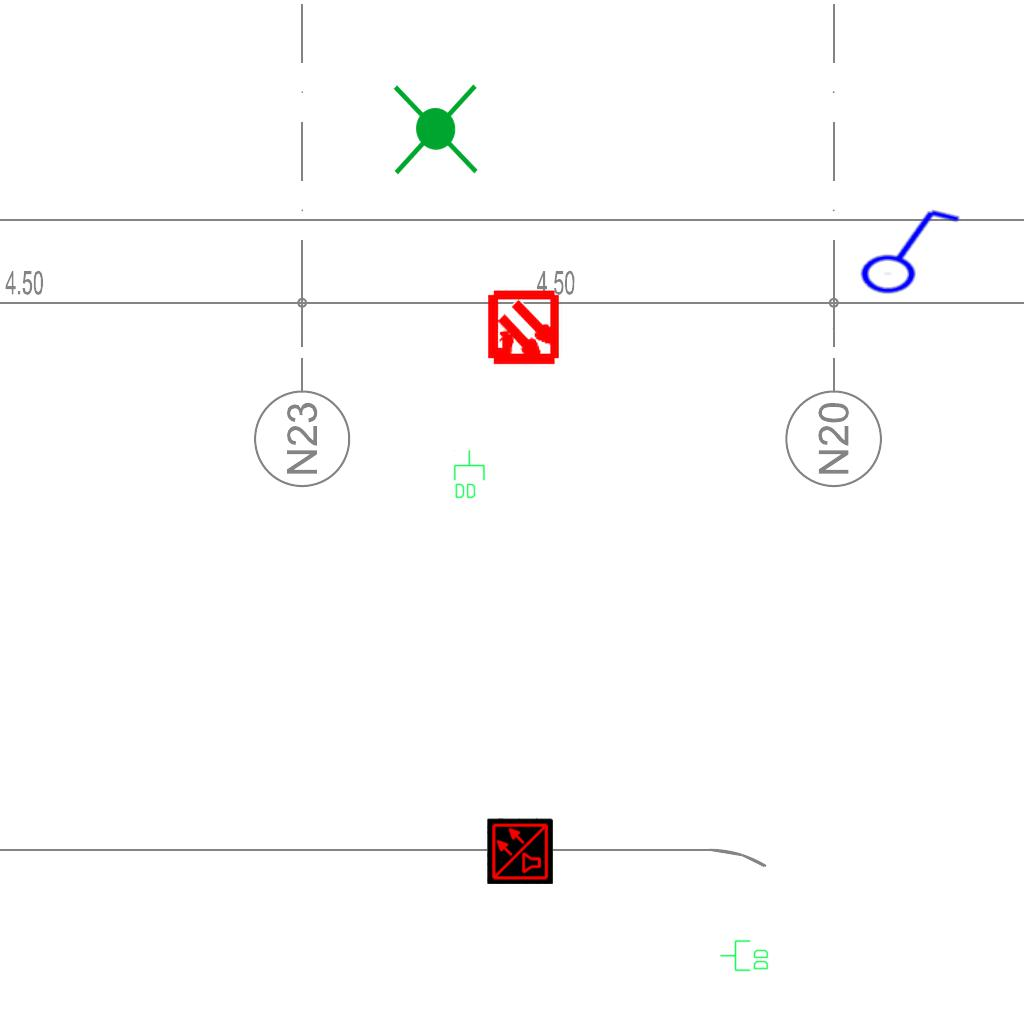Ausschalter: (850, 200, 962, 296)
Datenanschluss_zweifach: (452, 449, 486, 500), (719, 939, 770, 973)
Notlichtbaustein_in_Allgemeinbeleuchtug_engebaut_Einbau_(1UG_und_2UG_Aufbauvaria: (383, 79, 486, 179)
OKW_Multisensormelder_(Kombination_optischer_Rauch-Kahlenmonoxid_Waerme-Melder): (487, 818, 553, 884)
OT_Multisensormelder_(Kombination_RMO_WMD): (467, 273, 580, 386)
